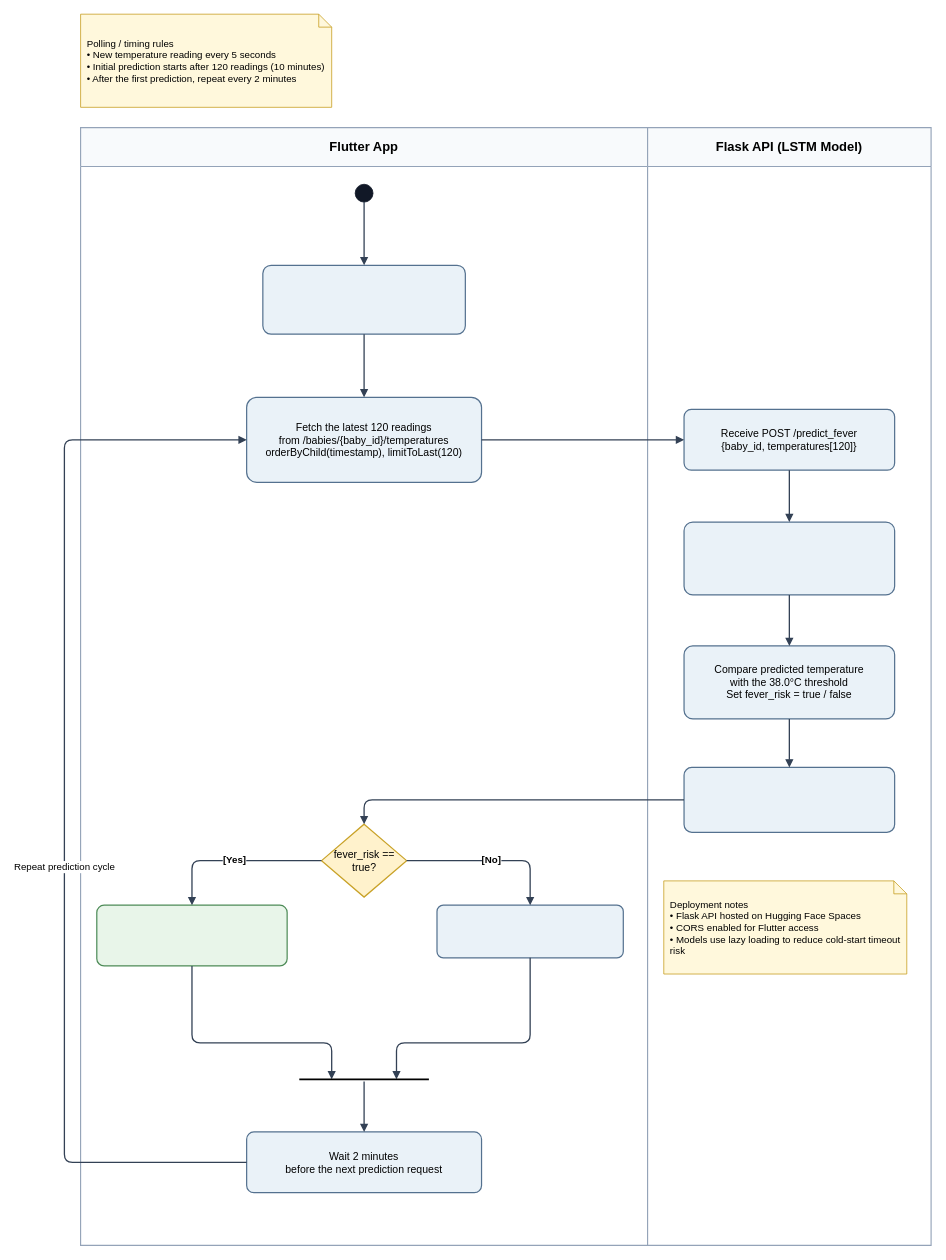
This 946x1260 diagram has some shape labels left out. The shapes that lost their labels are listed below. From the top down, each one's centre as x and y in pixels, then its label:
the point at 364,299: Wait until the initial 10-minute data window is available (120 readings)
the point at 789,558: Scale temperature data and run LSTM inference (predict 10 minutes ahead)
the point at 789,800: Return JSON response: predicted_temp, fever_risk, message
the point at 191,935: Trigger a push notification: “Fever risk detected in 10 minutes”
the point at 530,931: Do not send a notification
